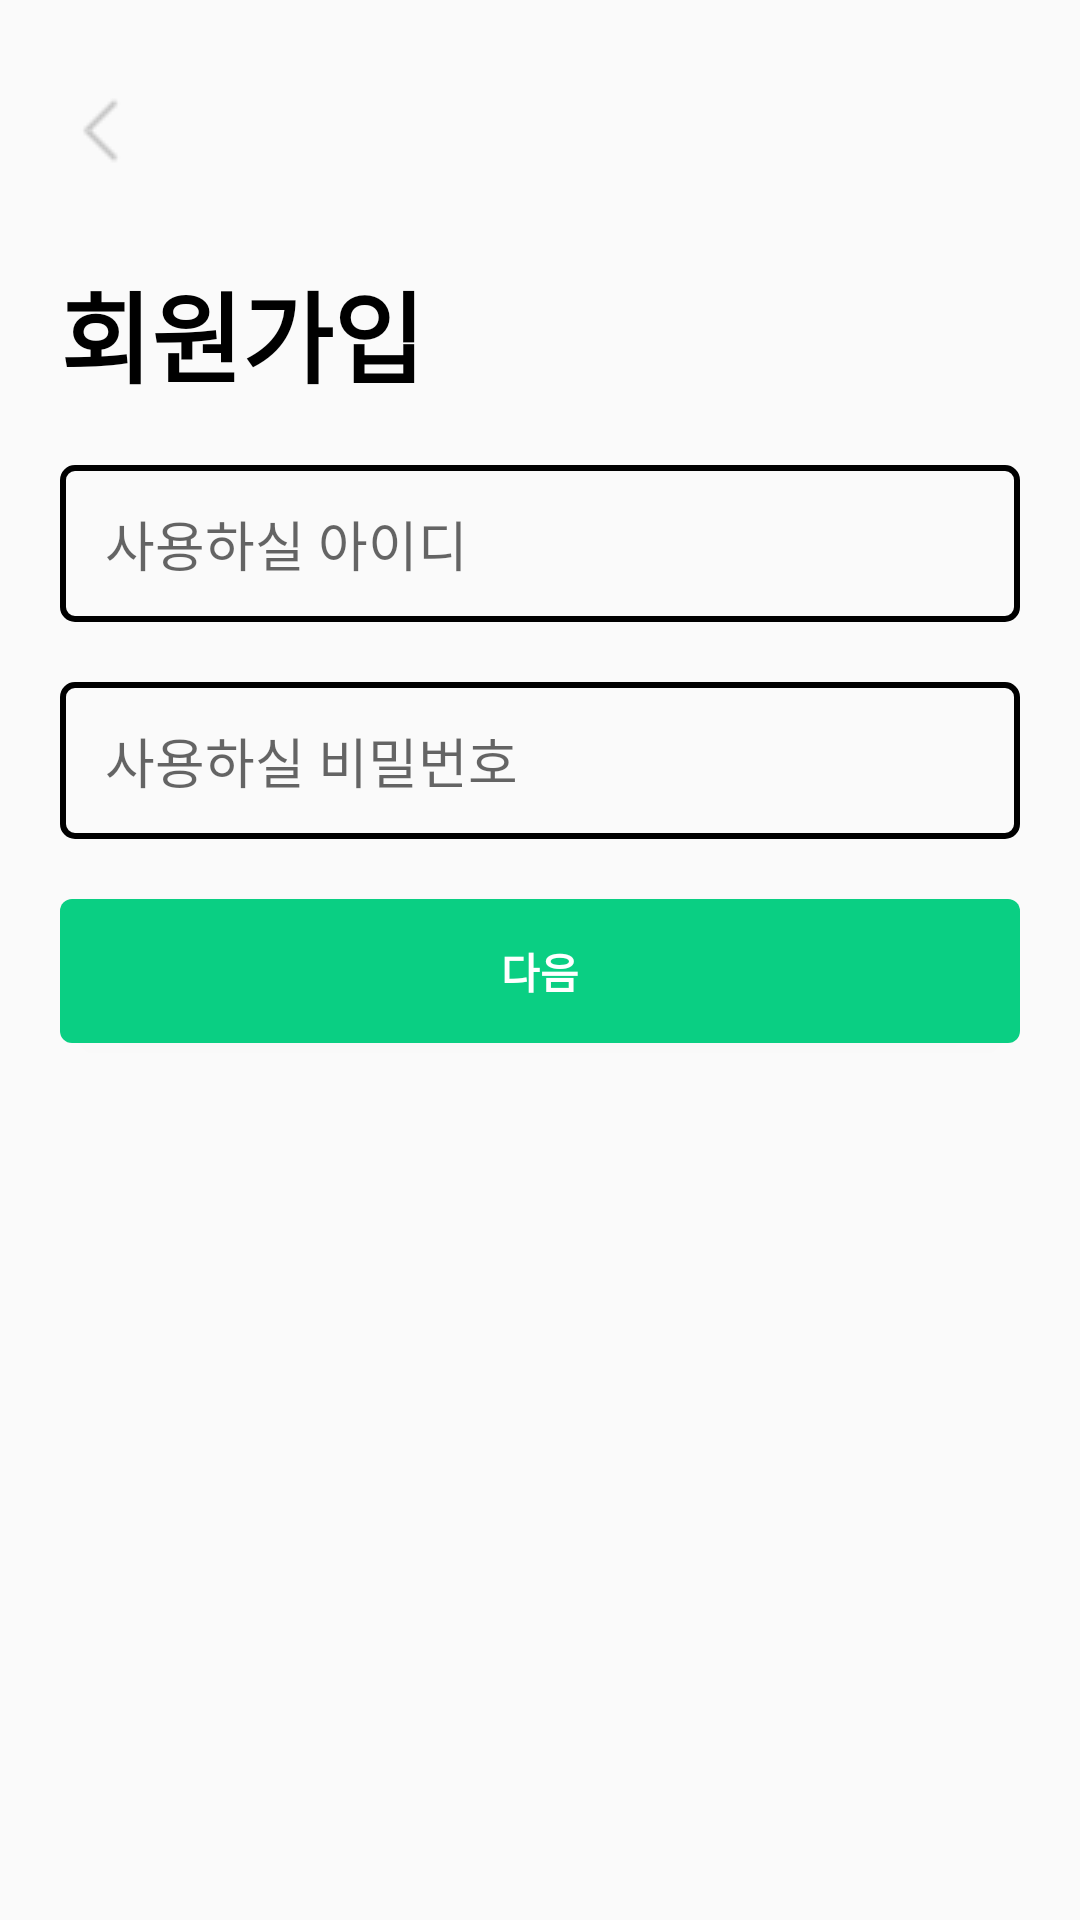

Locate icon controls on the screen. Image size 1080x1920, boxes as (x1, y1, x2, y2).
back: (84, 101, 117, 160)
